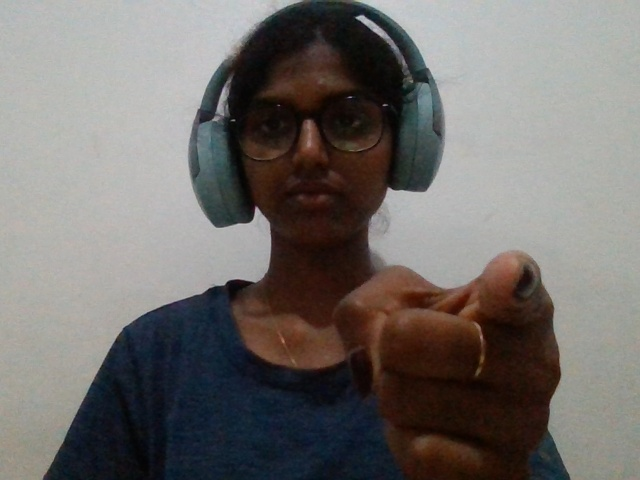You: (319, 221, 609, 480)
